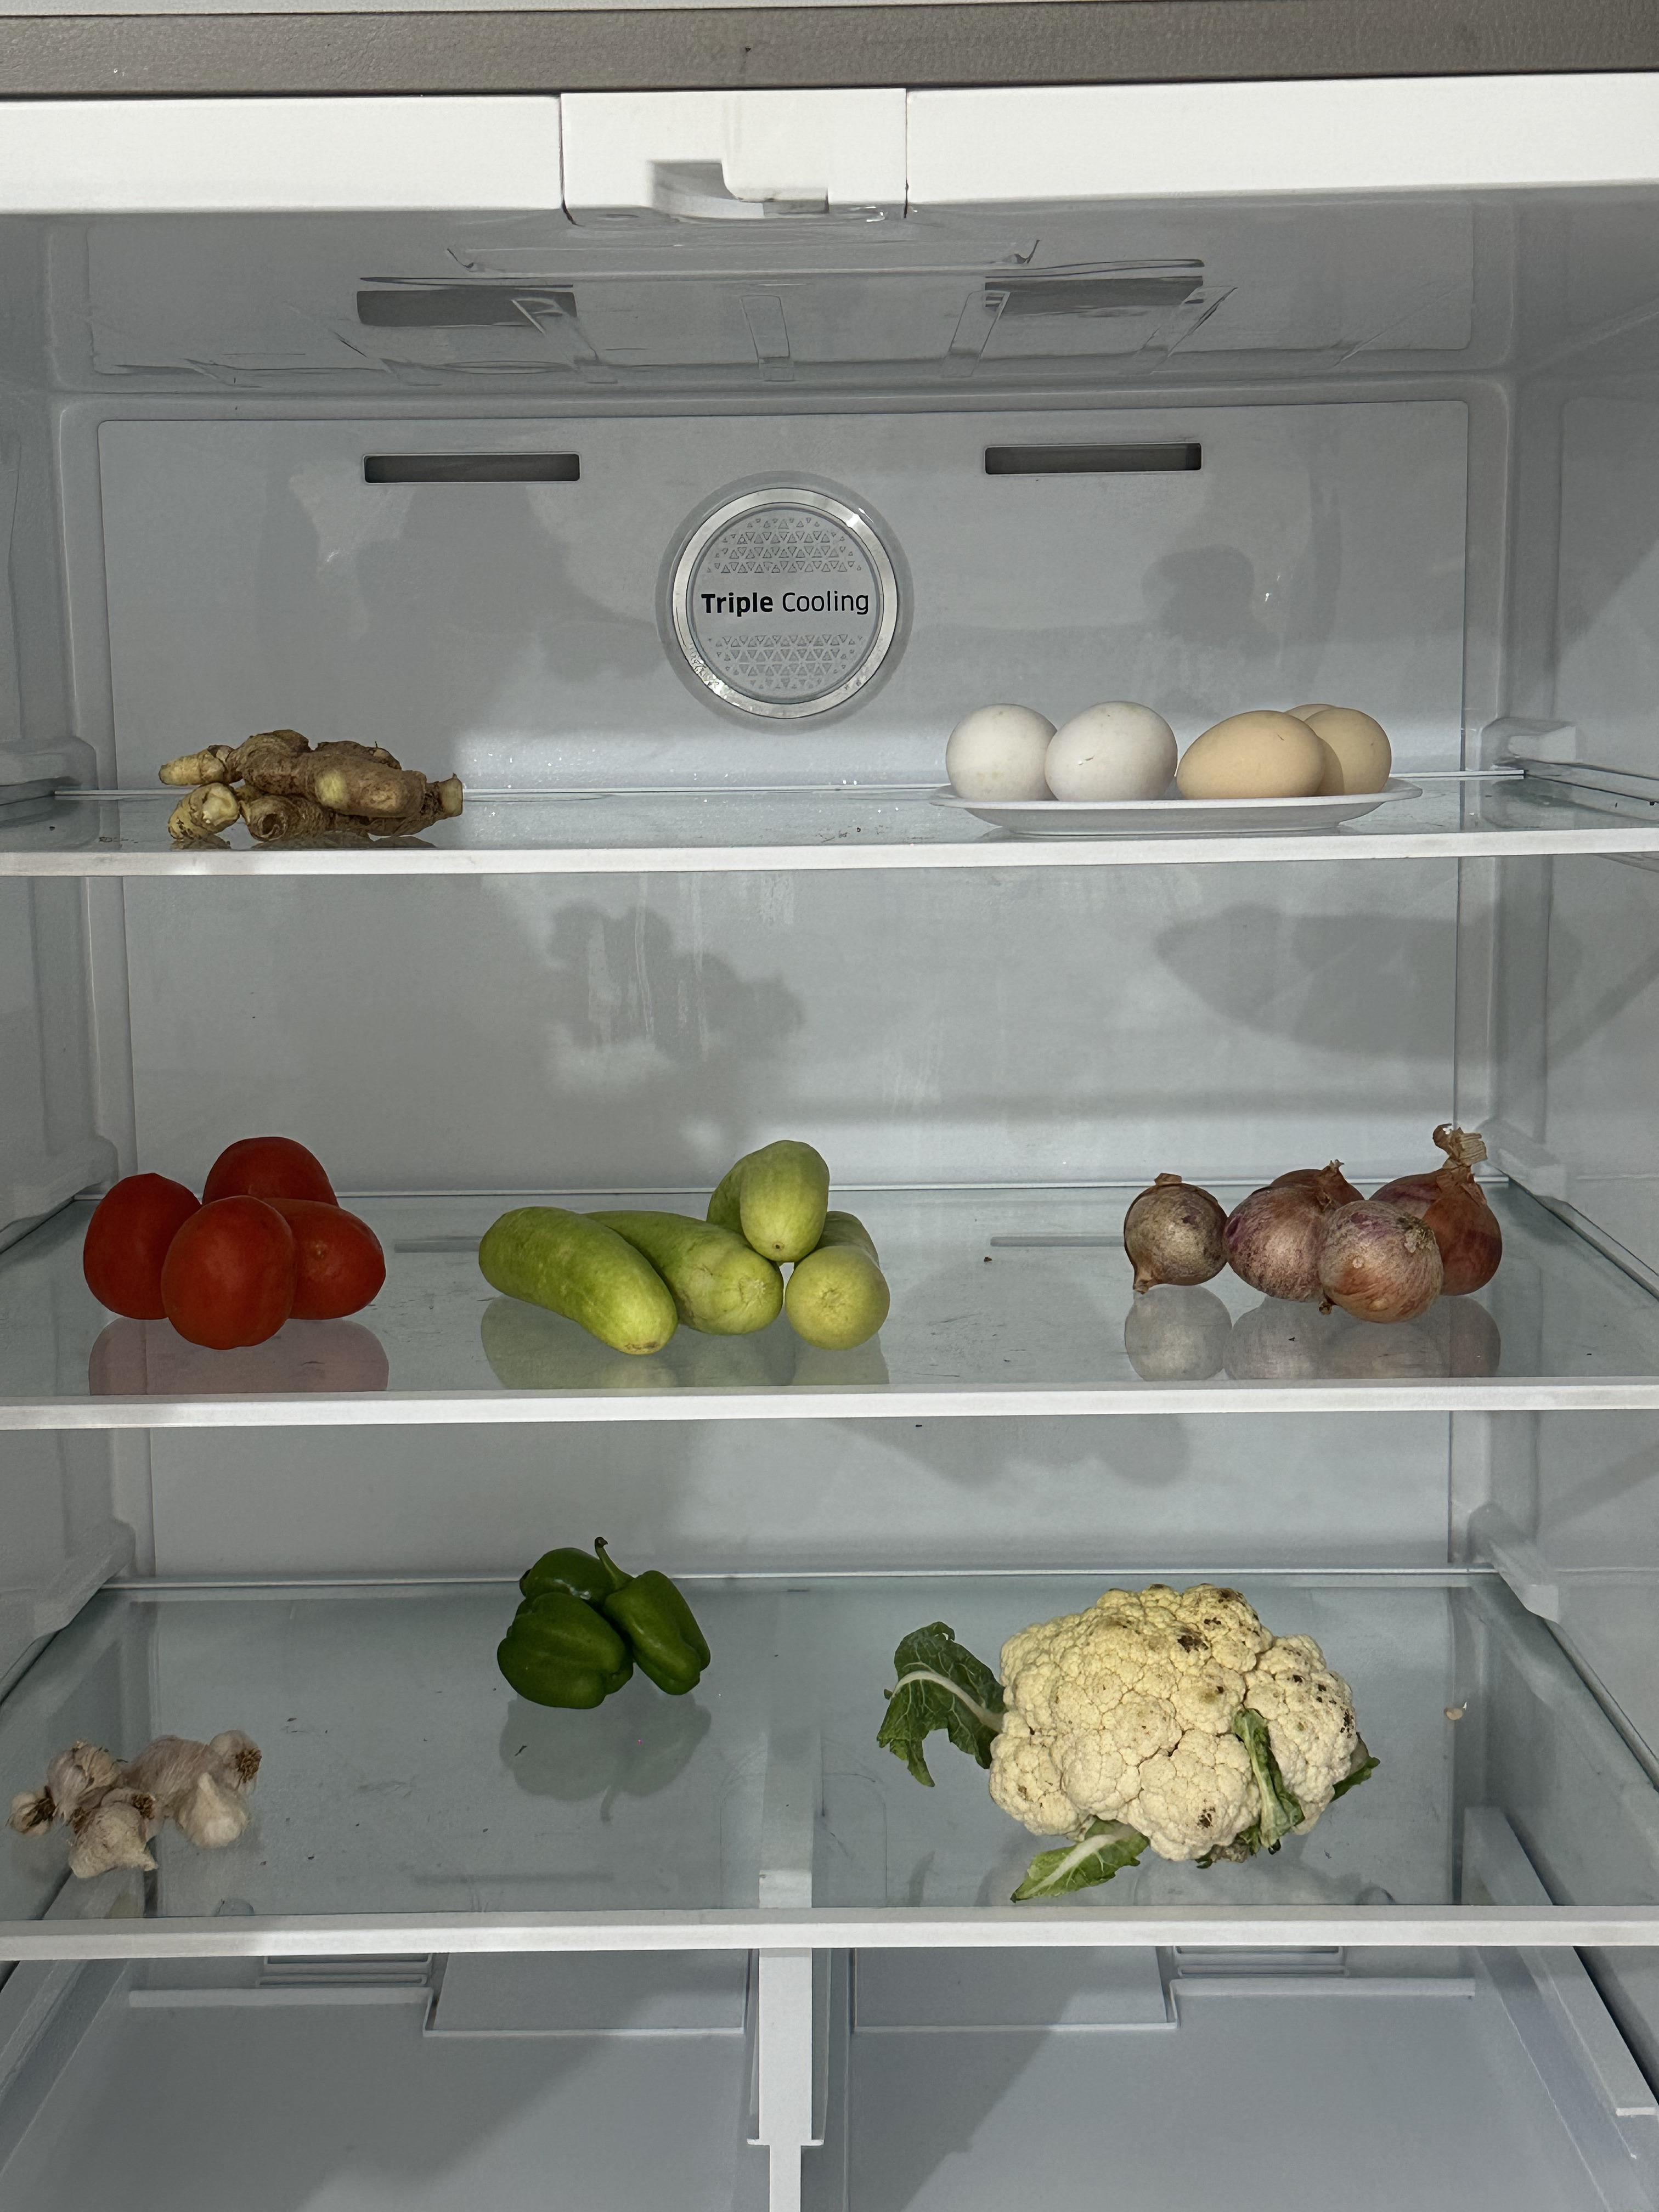capsicum: (500, 1545, 709, 1712)
cauliflower: (992, 1583, 1358, 1851), (14, 1728, 279, 1879)
cucumber: (481, 1137, 887, 1353)
egg: (943, 695, 1394, 813)
ginger: (162, 723, 471, 850)
onion: (1119, 1150, 1509, 1318)
tomato: (80, 1132, 387, 1348)
